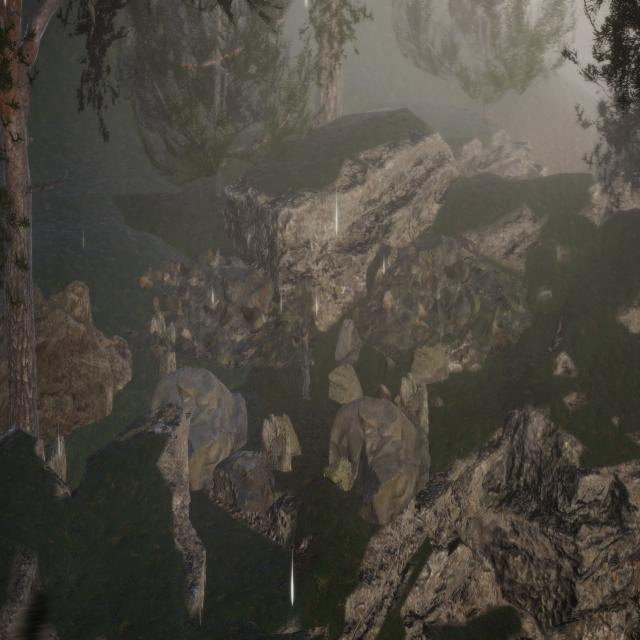Human: (288, 304, 320, 411)
